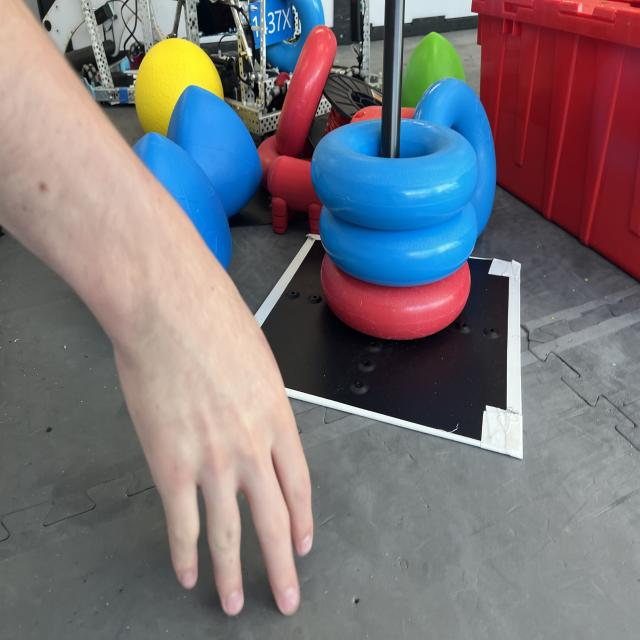Blue-Ring: (311, 120, 478, 230), (319, 202, 478, 287), (414, 78, 496, 235), (266, 0, 325, 73)
Red-Ring: (321, 255, 471, 340), (276, 25, 336, 157)
